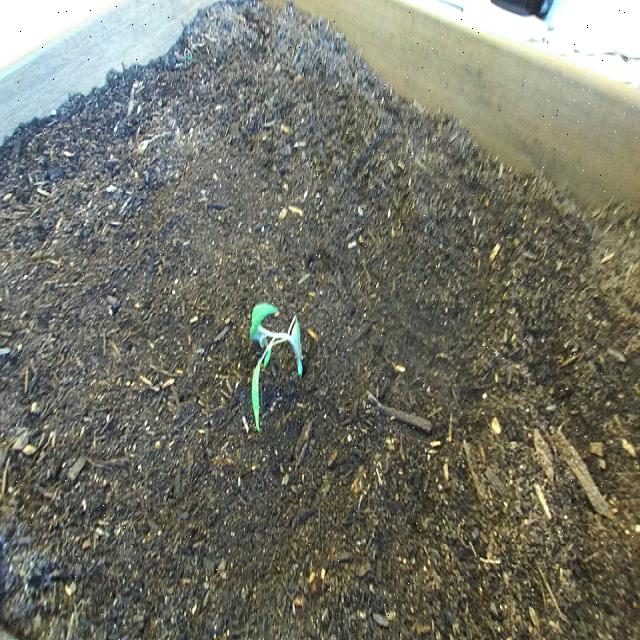Healthy: (239, 285, 314, 438)
